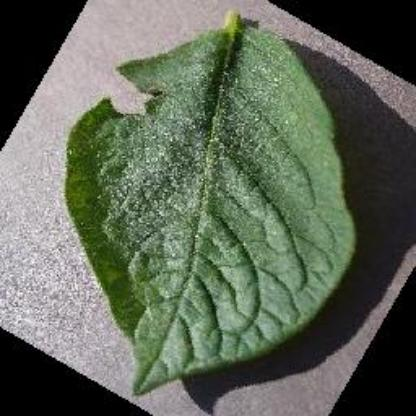Healthy-plant: (41, 17, 398, 413)
